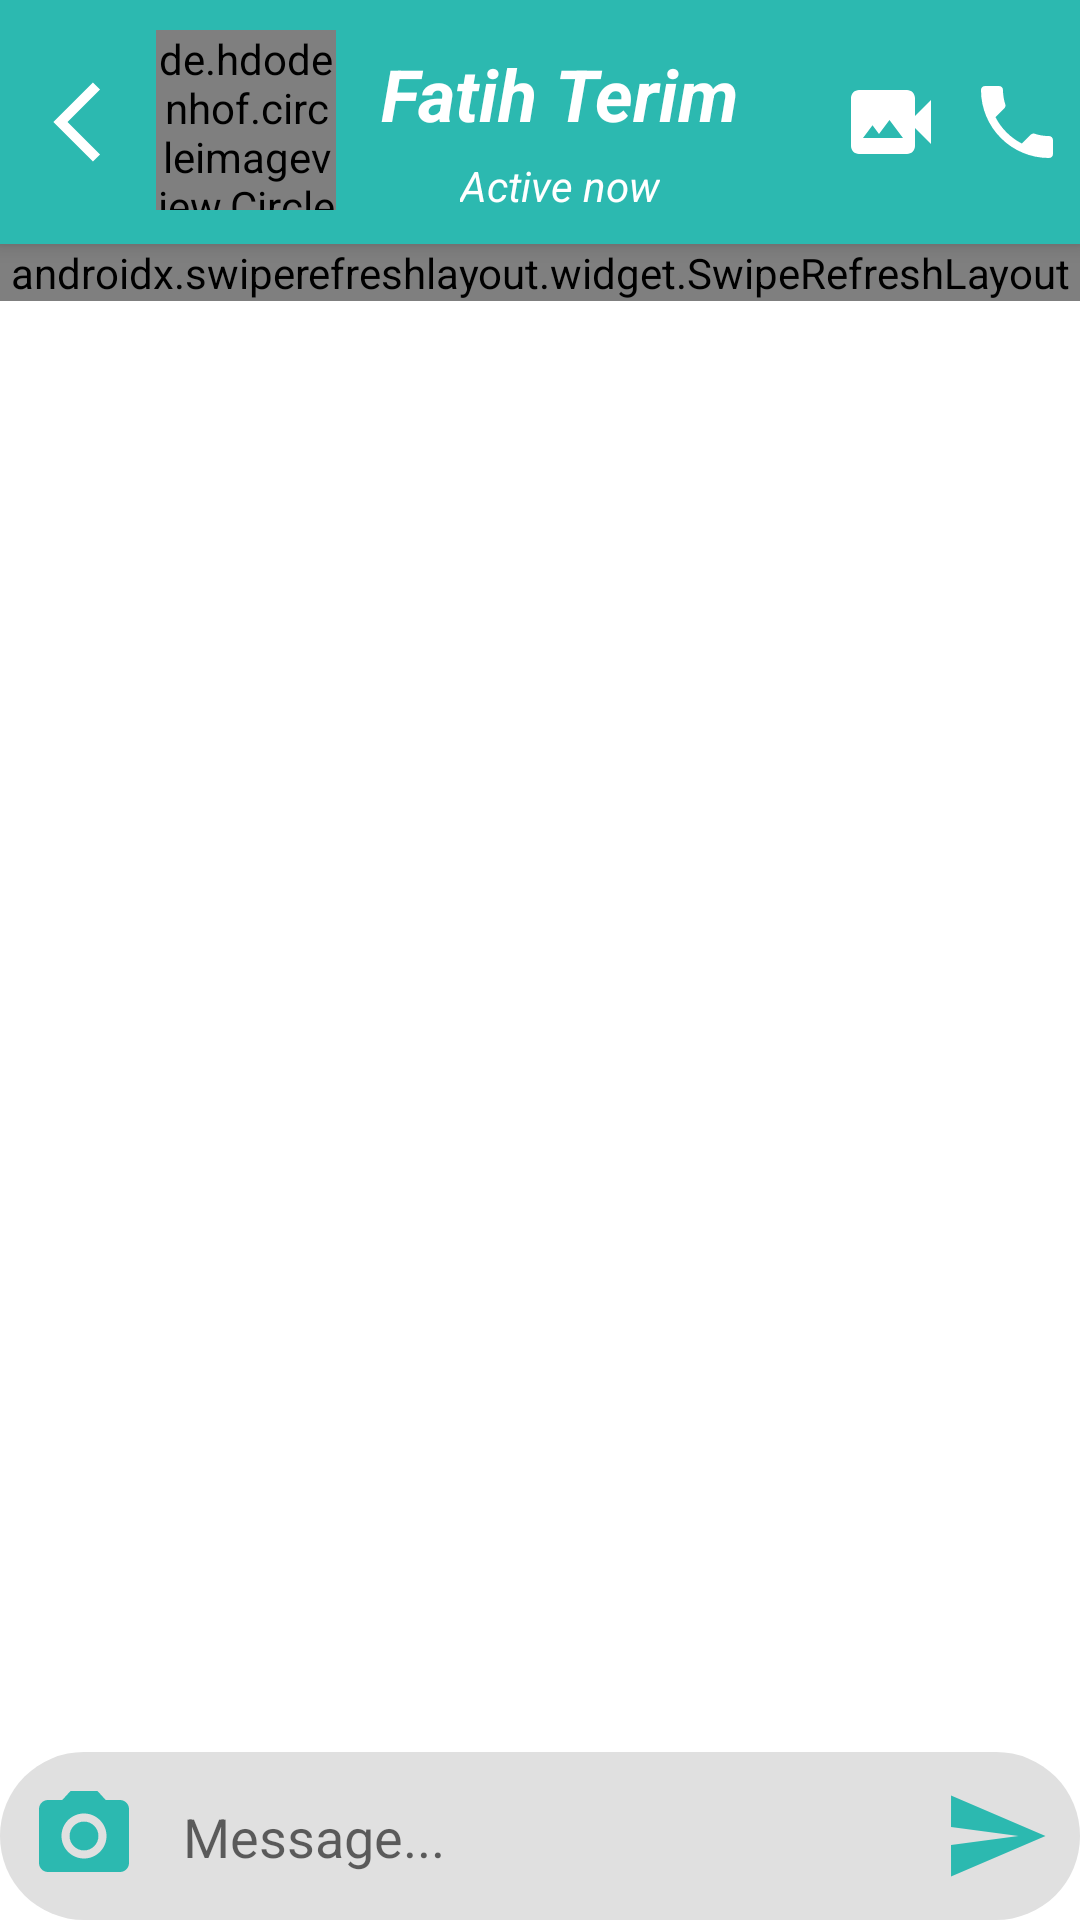

Icons on this 1080px x 1920px Android screen, each with its box as [x1,y1,x2,y2]:
arrow back: [53,82,100,162]
phone: [981,86,1053,158]
photo camera: [39,1791,129,1872]
send: [951,1795,1045,1877]
video camera back: [851,90,931,154]
